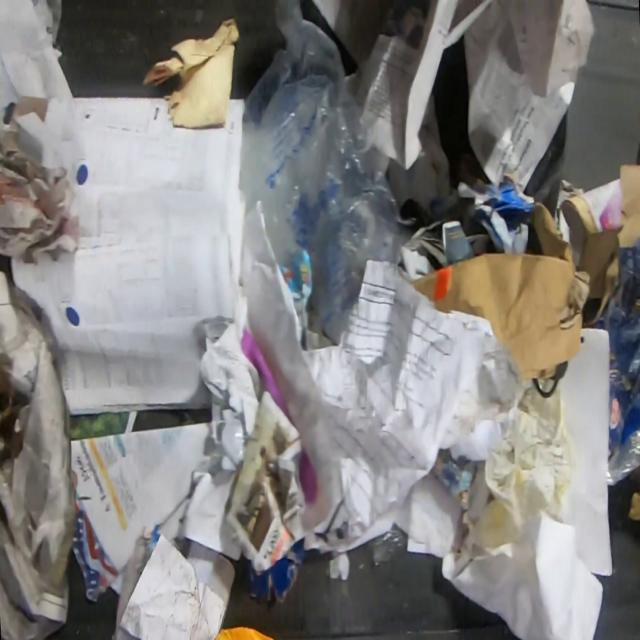cardboard: (408, 201, 590, 380), (580, 164, 640, 328), (596, 252, 640, 465), (456, 171, 534, 255), (0, 346, 35, 476), (247, 534, 306, 603), (625, 490, 640, 529)
soft_plastic: (238, 0, 400, 342), (606, 426, 640, 489)
